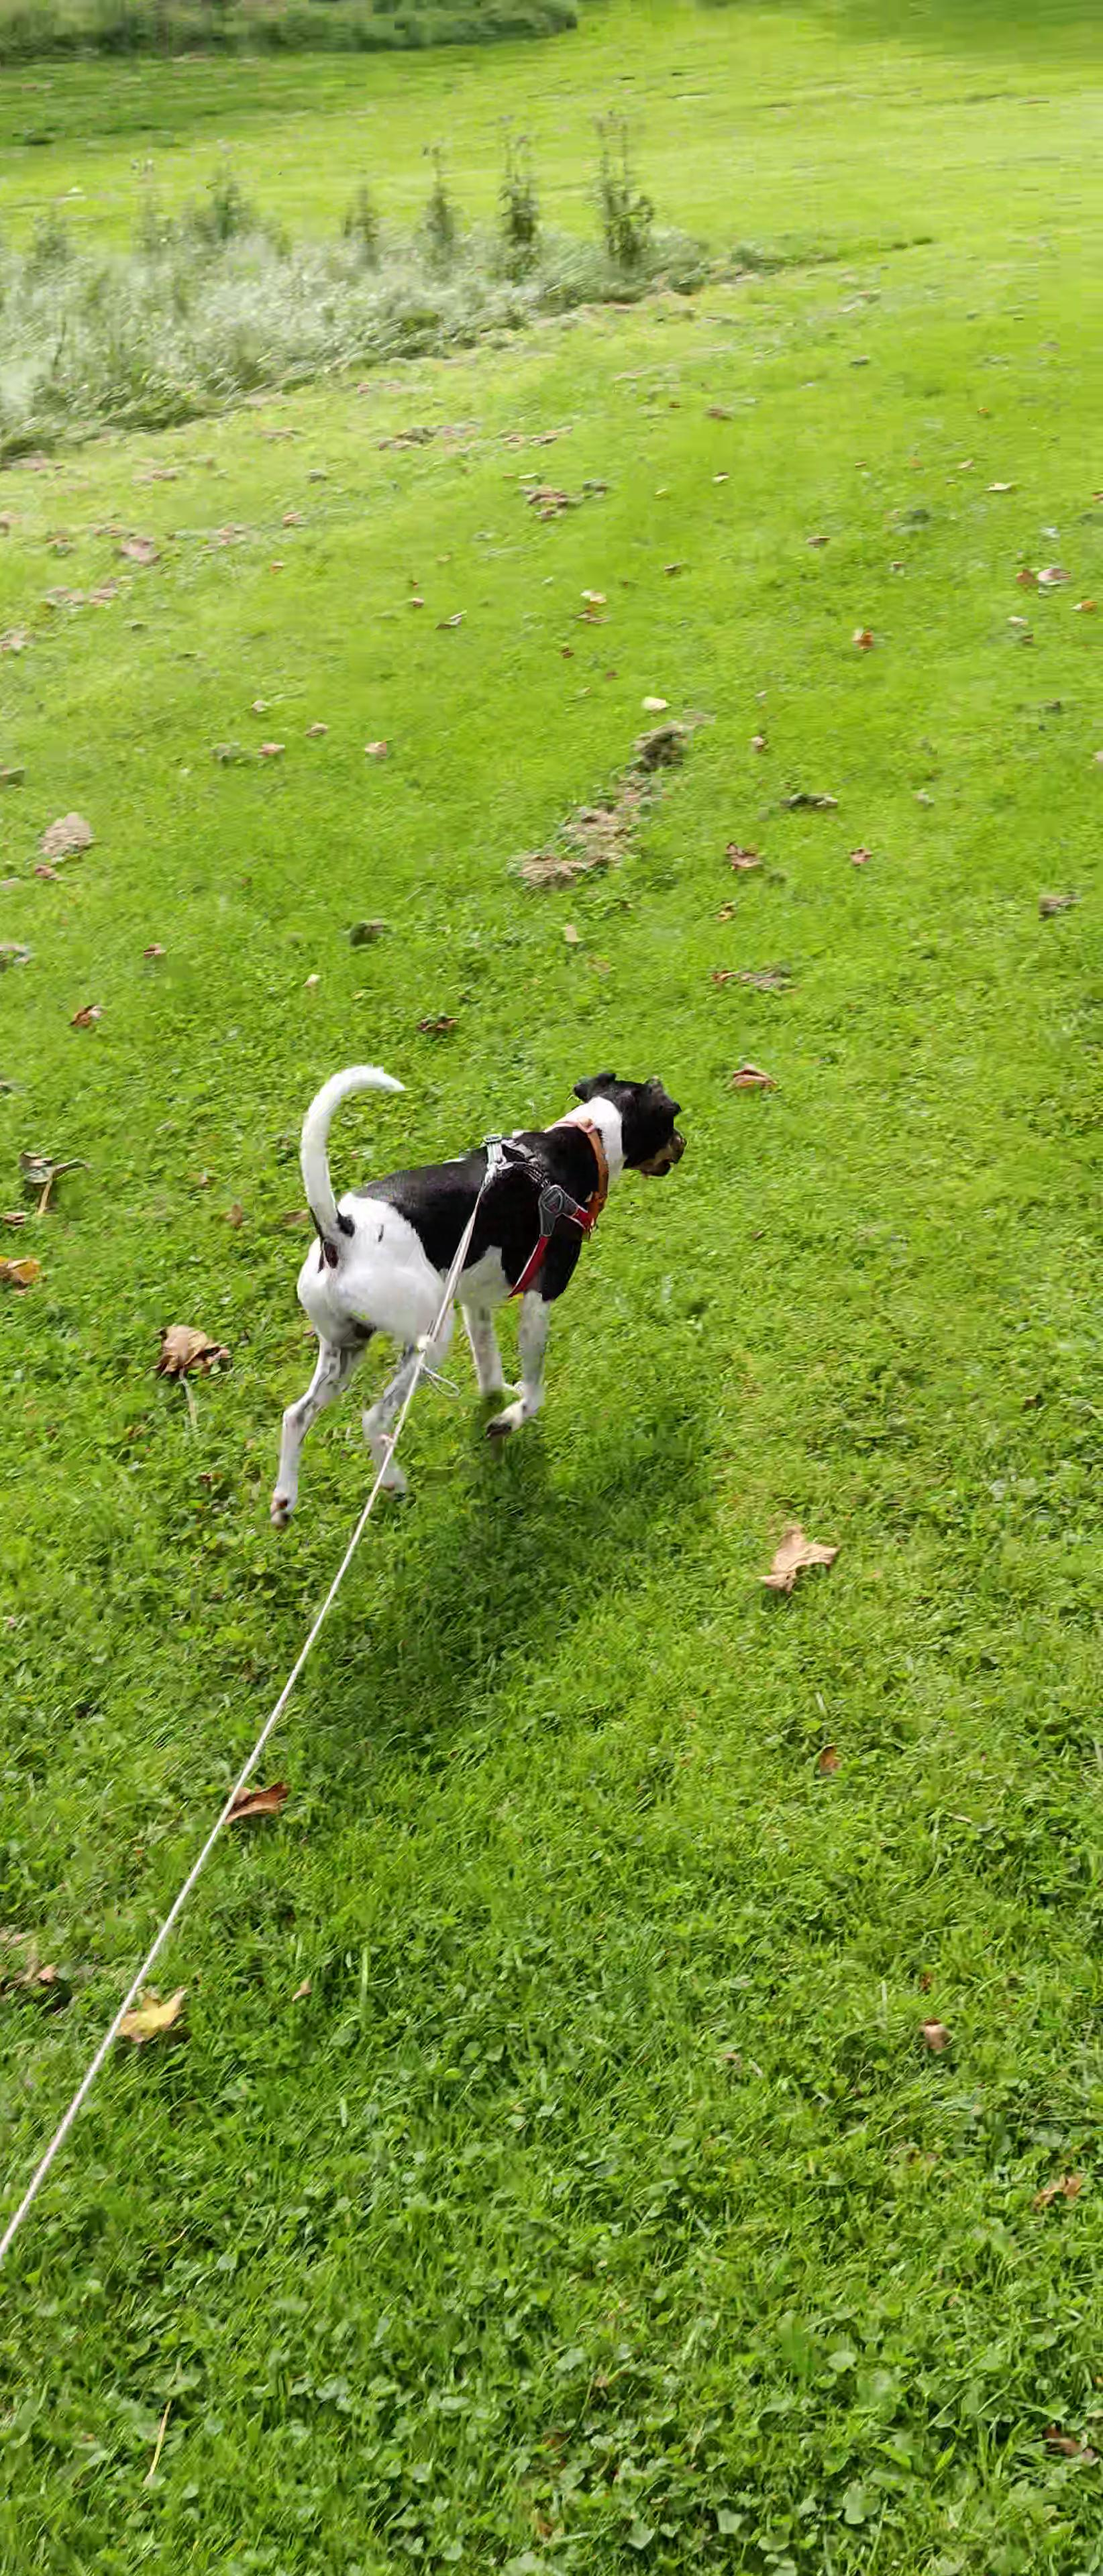Dog: (265, 1060, 690, 1533)
